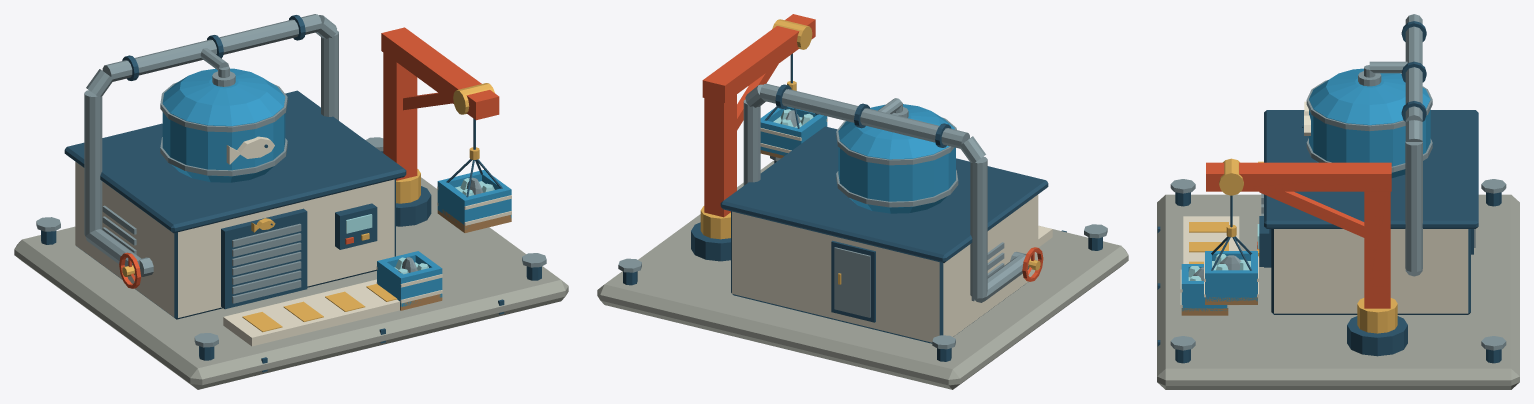
The model's file is marine-plant-lv1.glb.
The picture shows the model from 3 angles, left to right: view 1: azimuth 30°, elevation 25°; view 2: azimuth 150°, elevation 25°; view 3: azimuth 270°, elevation 25°; orthographic projection. The views are drawn at different scales.
Visible parts, largest first — view 1: Plant_L1, Fish_Cargo, Valve_Wheel, Cargo_Slings; view 2: Plant_L1, Fish_Cargo, Valve_Wheel; view 3: Plant_L1, Fish_Cargo, Cargo_Slings.
Part boxes in pixels (left/top/right/bottom): Plant_L1: left=14, top=14, right=568, bottom=389; Fish_Cargo: left=437, top=170, right=511, bottom=232; Valve_Wheel: left=119, top=252, right=140, bottom=288; Cargo_Slings: left=446, top=147, right=502, bottom=197; Plant_L1: left=597, top=14, right=1128, bottom=389; Fish_Cargo: left=760, top=106, right=827, bottom=158; Valve_Wheel: left=1022, top=247, right=1043, bottom=281; Plant_L1: left=1157, top=14, right=1519, bottom=389; Fish_Cargo: left=1204, top=251, right=1258, bottom=304; Cargo_Slings: left=1211, top=225, right=1252, bottom=270.
Bounding box in the file's own units: 5.5 × 3.14 × 4.65.
